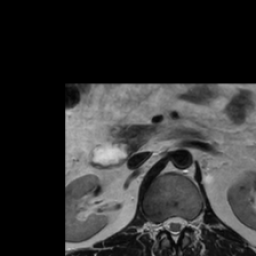CCS_normal: (172, 210, 179, 250)
LFS_normal: (186, 212, 193, 232)
LLS_normal: (179, 211, 187, 234)
RFS_stenosis: (155, 214, 163, 240)
RLS_normal: (163, 214, 172, 238)
